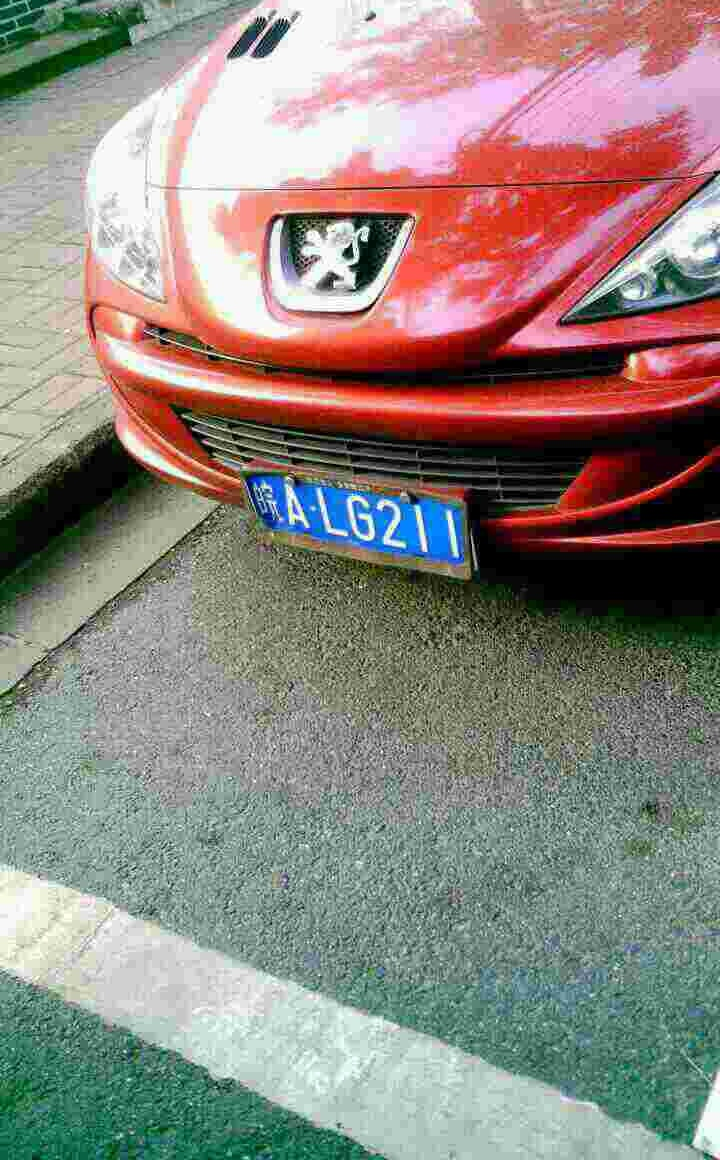license_plate: (248, 468, 469, 563)
